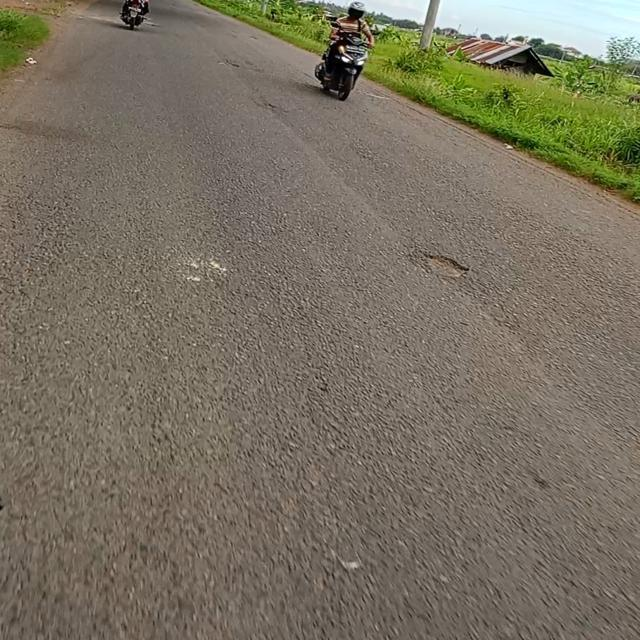Lubang: (413, 246, 476, 287)
